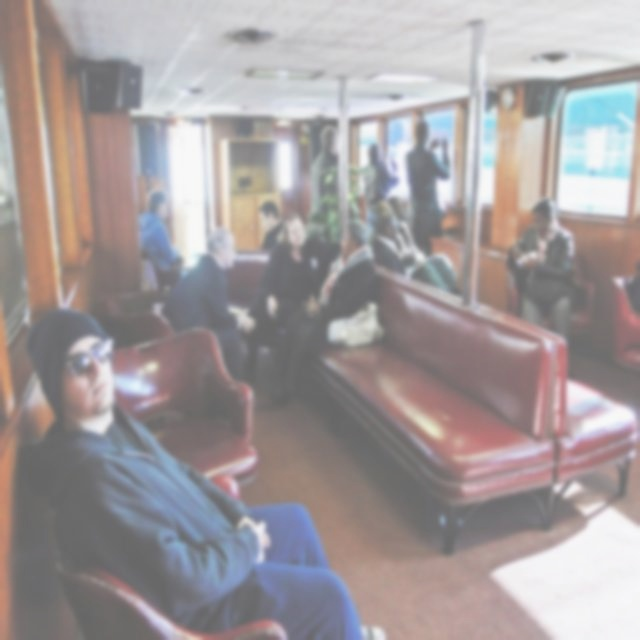pessoa: (24, 302, 388, 640), (266, 218, 378, 412), (245, 210, 331, 398), (159, 227, 256, 383), (506, 196, 574, 350), (366, 200, 456, 294), (386, 196, 464, 299), (404, 119, 452, 258), (370, 210, 424, 283), (362, 142, 400, 236), (138, 188, 180, 269), (310, 124, 340, 230), (310, 124, 340, 211), (259, 199, 285, 251), (629, 253, 640, 318)
